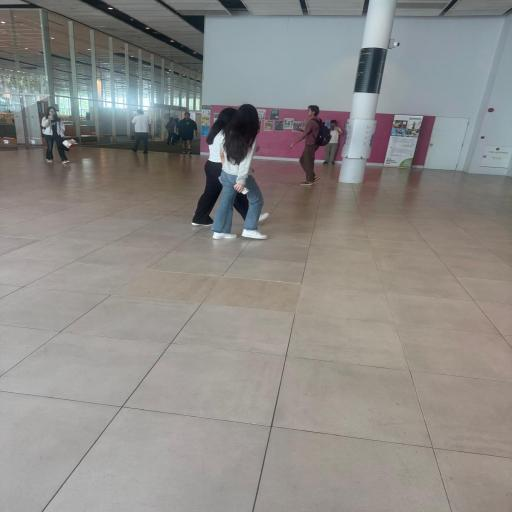person_left: (288, 104, 322, 186)
person_right: (191, 106, 270, 228), (211, 104, 269, 240)
